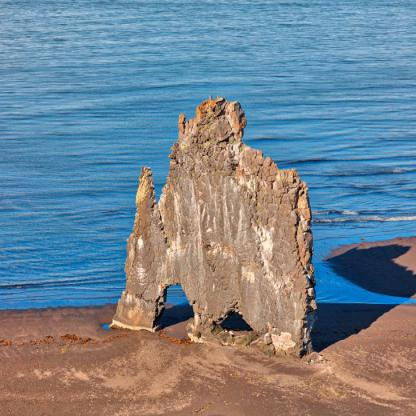Igneous_Basalt: (116, 86, 321, 356)
